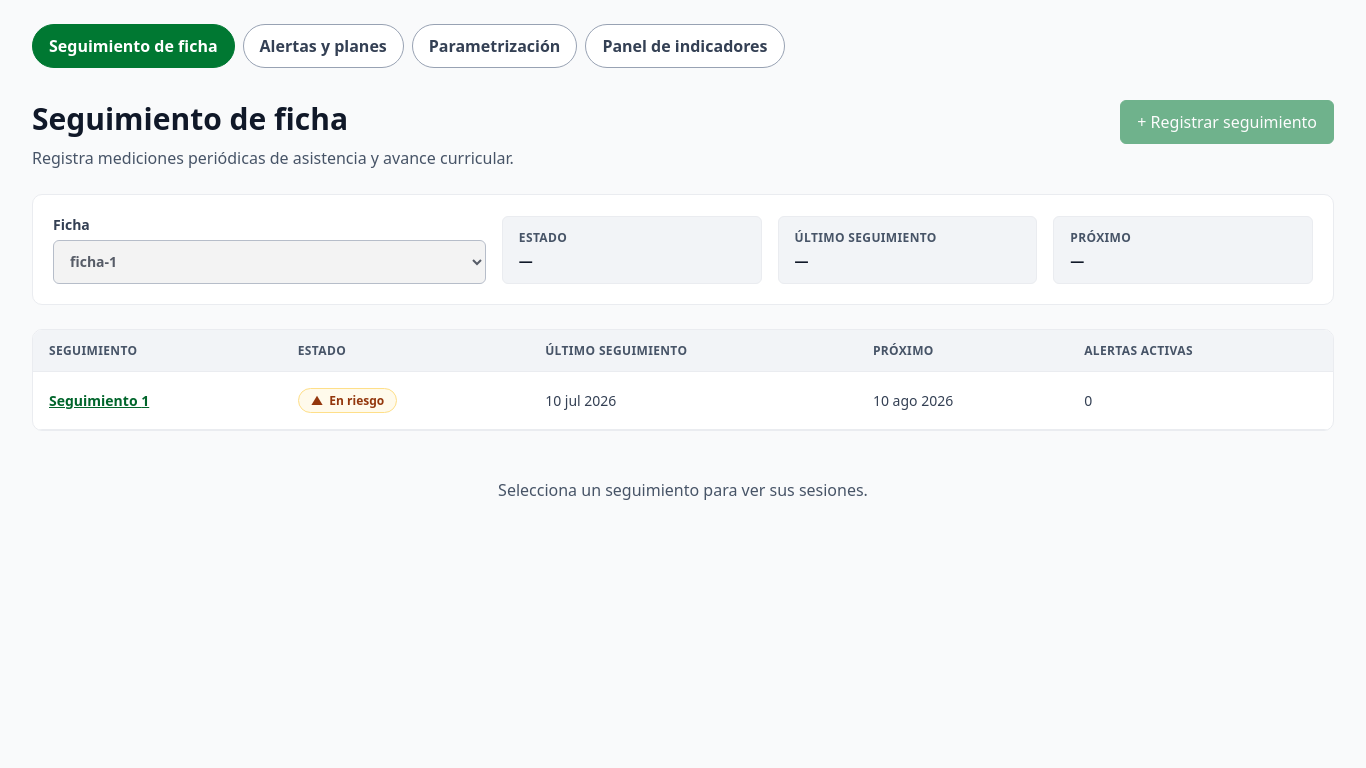
Test: HU-MON-007 devolucion de QA › 4. permisos › con permiso e instructor autenticado habilita el registro
Click the button with aria-label "Abrir seguimiento 1". click: (99, 400)
box: [49,390,149,410]
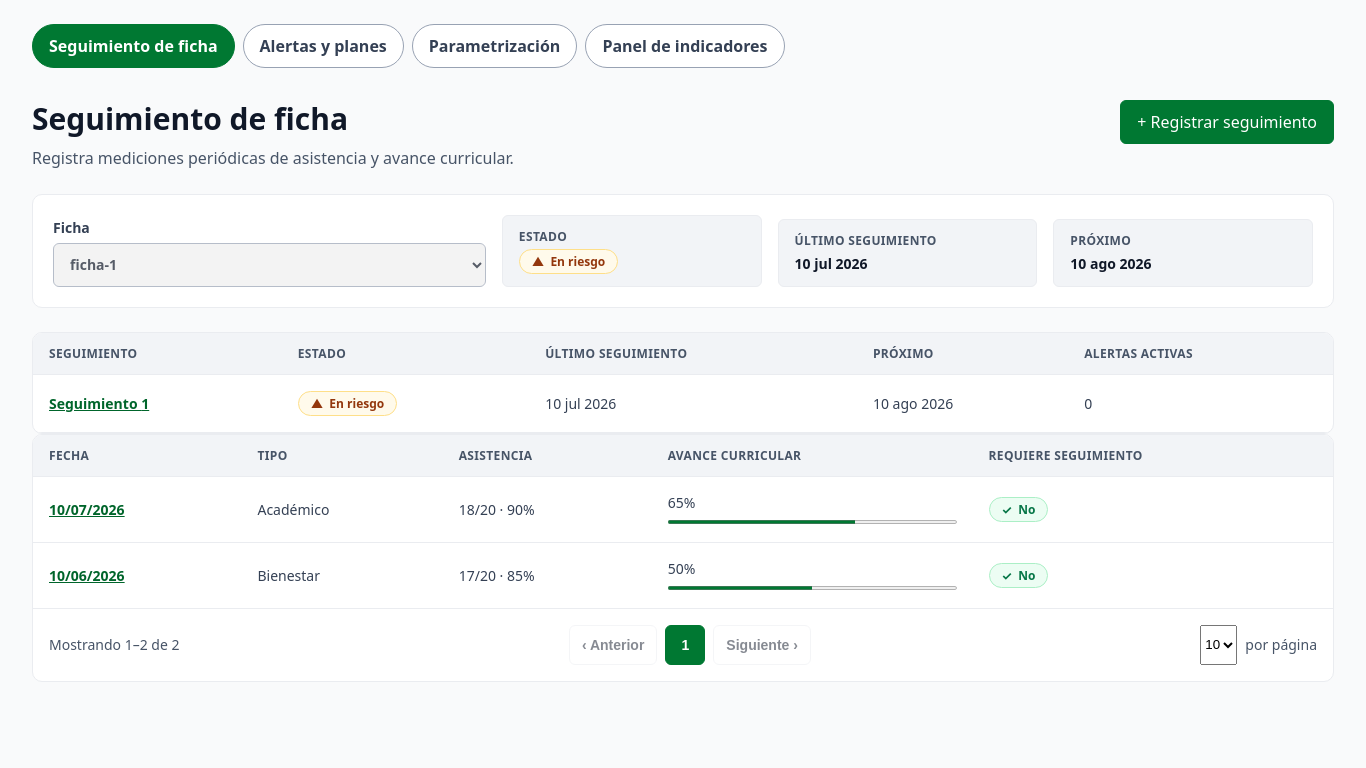
Check: the text "Académico" is shown, box [242,476,443,542]
Check: the button "+ Registrar seguimiento" is enabled, box [1120,100,1334,144]
